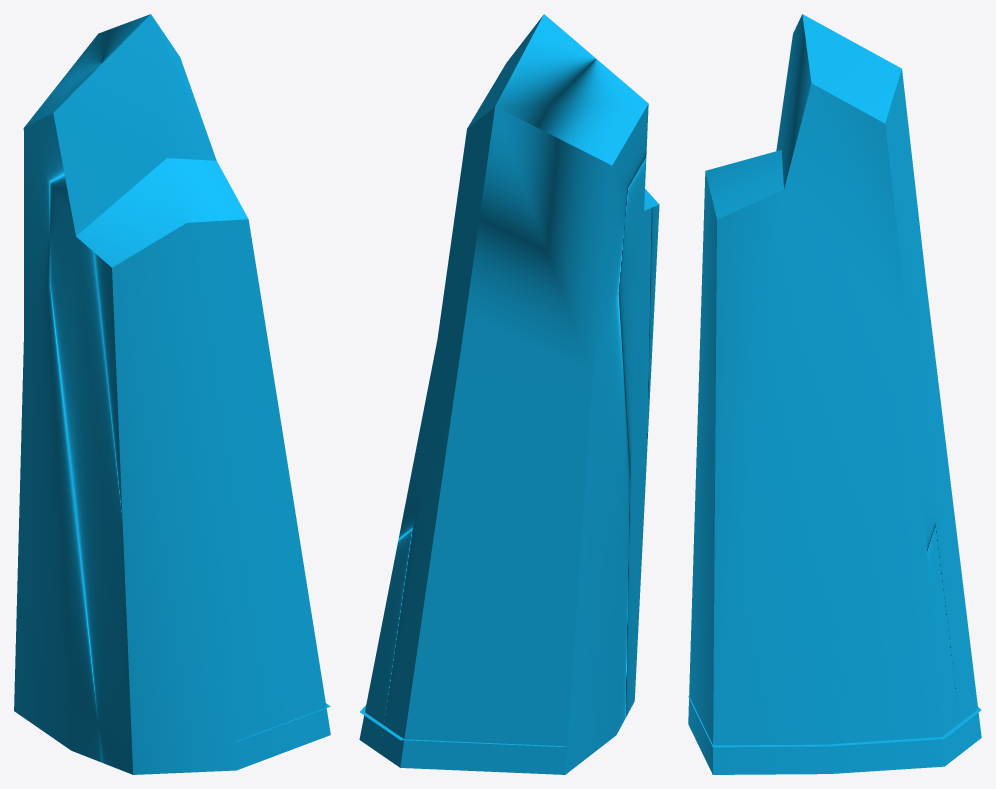
File: pillar1_edb78acf.glb
3 views of the same model, side by side, from view 1: azimuth 30°, elevation 25°; view 2: azimuth 150°, elevation 25°; view 3: azimuth 270°, elevation 25° (orthographic). The views are drawn at different scales.
Size of the model in its own units: 1.02 by 2.98 by 1.14.
Materials: 2 (2 with a texture image).
